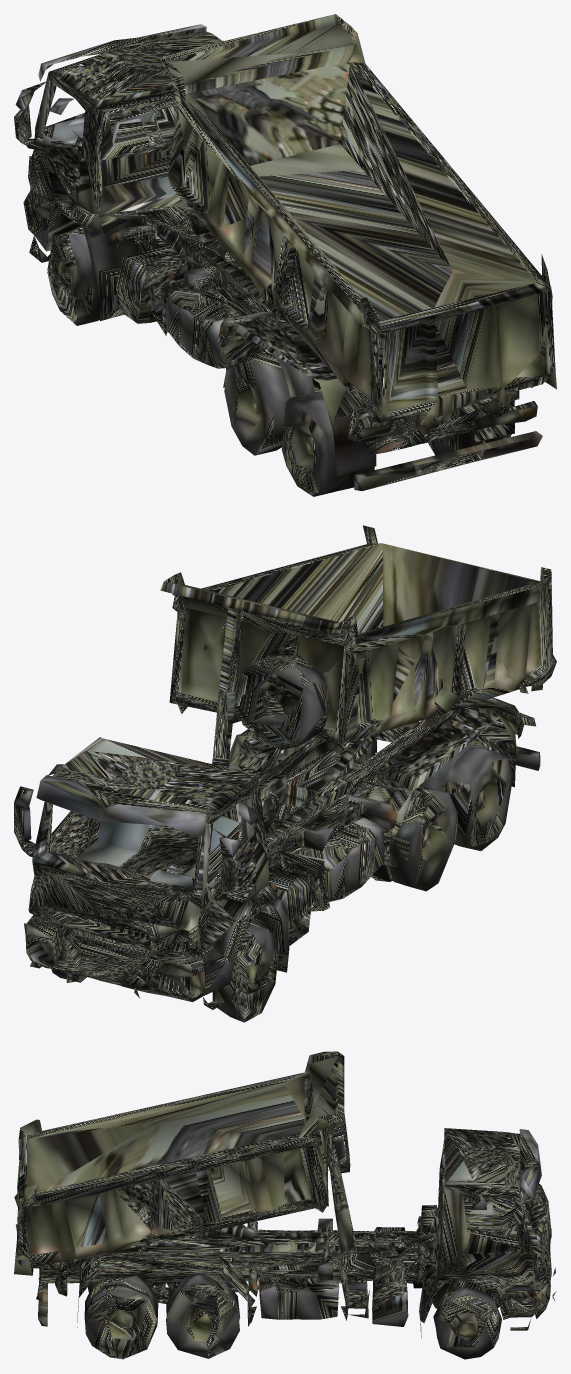
The model's file is basculante-basculando_lod1.glb.
3 views of the same model, one above another, from view 1: azimuth 30°, elevation 25°; view 2: azimuth 150°, elevation 25°; view 3: azimuth 270°, elevation 25° (orthographic). The views are drawn at different scales.
Visible parts, largest first — view 1: tripo_node_9959f89a-be26-49c5-b427-5b0e481491cf; view 2: tripo_node_9959f89a-be26-49c5-b427-5b0e481491cf; view 3: tripo_node_9959f89a-be26-49c5-b427-5b0e481491cf.
Boxes of the visible parts, left/top/right/bottom form: tripo_node_9959f89a-be26-49c5-b427-5b0e481491cf: left=14, top=14, right=556, bottom=496; tripo_node_9959f89a-be26-49c5-b427-5b0e481491cf: left=14, top=525, right=556, bottom=1022; tripo_node_9959f89a-be26-49c5-b427-5b0e481491cf: left=14, top=1051, right=556, bottom=1359.
Bounding box in the file's own units: 3.04 × 4.25 × 8.58.
1 material, 1 textured.
